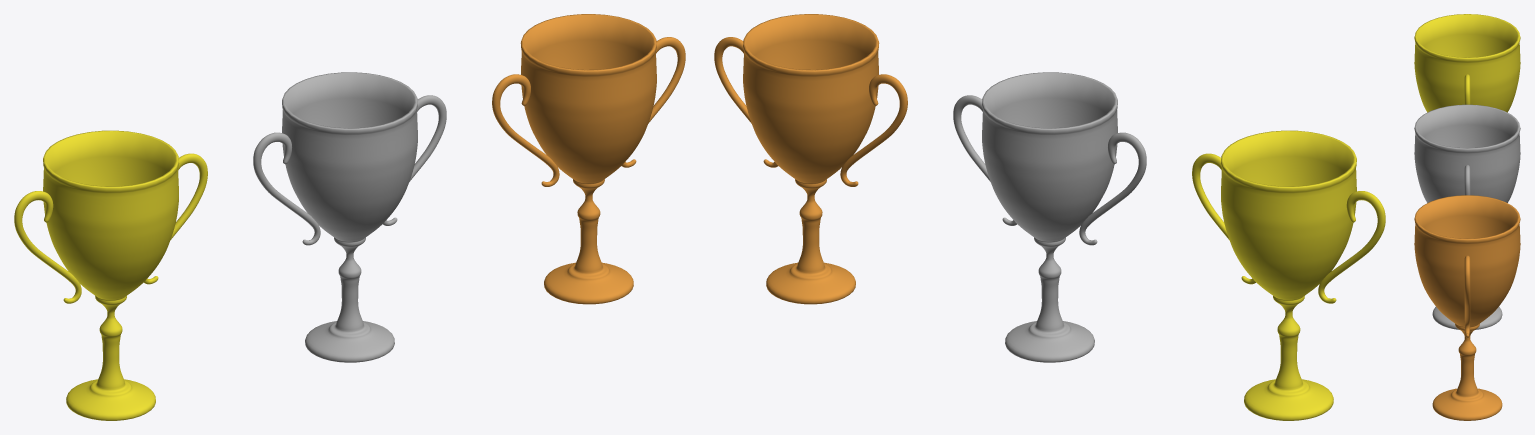
Rendered from trooples.fbx.
3 views of the same model, side by side, from view 1: azimuth 30°, elevation 25°; view 2: azimuth 150°, elevation 25°; view 3: azimuth 270°, elevation 25° (orthographic). The views are drawn at different scales.
Visible parts, largest first — view 1: Plane.006, Plane.001, Plane.013; view 2: Plane.006, Plane.001, Plane.013; view 3: Plane.013, Plane.001, Plane.006.
Part boxes in pixels (bbox=[...]): Plane.006: bbox=[14, 130, 207, 420]; Plane.001: bbox=[253, 72, 446, 362]; Plane.013: bbox=[492, 14, 685, 304]; Plane.006: bbox=[1192, 130, 1385, 420]; Plane.001: bbox=[953, 72, 1146, 362]; Plane.013: bbox=[714, 14, 907, 304]; Plane.013: bbox=[1414, 195, 1520, 420]; Plane.001: bbox=[1414, 104, 1520, 329]; Plane.006: bbox=[1414, 14, 1520, 112].
Size of the model in its own units: 247 by 86.64 by 43.48.
